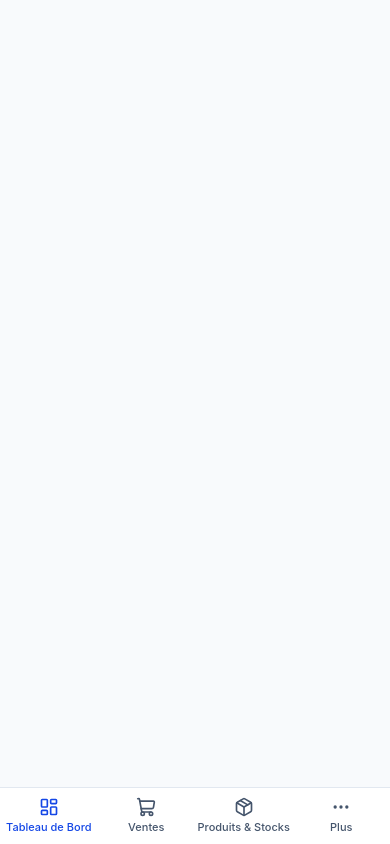
Navigation (tablette + mobile, panneau Plus partagé) › rend le reste des sections accessible via "Plus" côté mobile
The image size is (390, 844).
Step 1. Click the button "Plus" → x=341, y=816, box [292, 788, 389, 843]
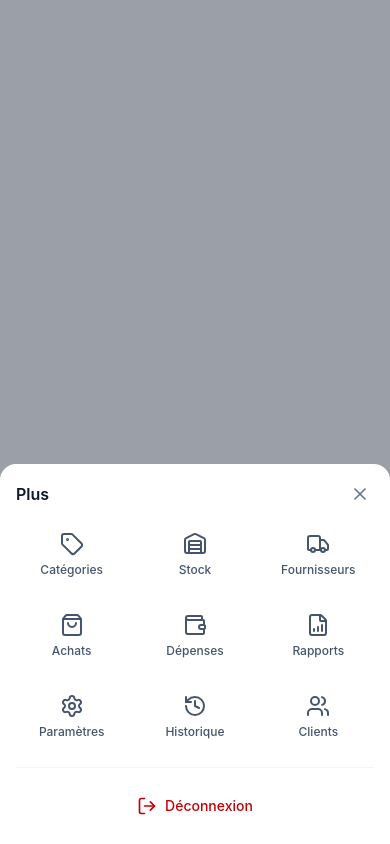
Check: the button "Catégories" is shown, box [16, 520, 127, 589]
Check: the button "Stock" is shown, box [139, 520, 251, 589]
Check: the button "Fournisseurs" is shown, box [263, 520, 374, 589]
